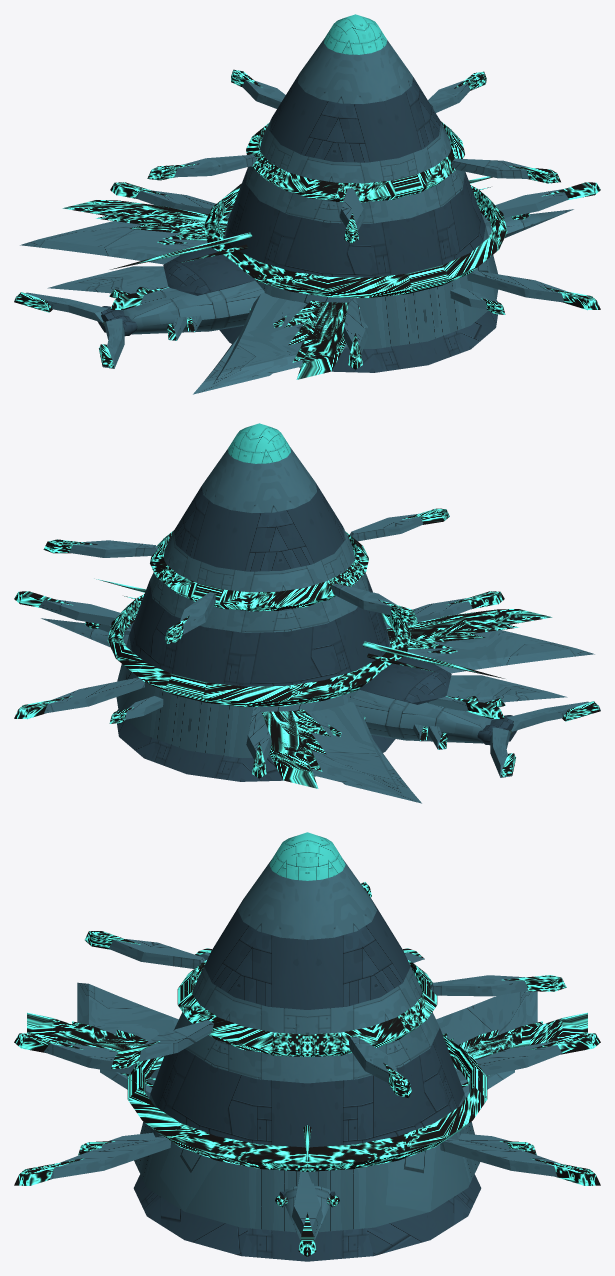
The model's file is tidal_ships.glb.
The picture shows the model from 3 angles, top to bottom: view 1: azimuth 30°, elevation 25°; view 2: azimuth 150°, elevation 25°; view 3: azimuth 270°, elevation 25°; orthographic projection. The views are drawn at different scales.
Visible parts, largest first — view 1: stellar_station, battleship, station, cruiser; view 2: stellar_station, battleship, station, cruiser; view 3: stellar_station, battleship, station, cruiser.
Part boxes in pixels (bbox=[...]): stellar_station: bbox=[110, 14, 600, 372]; battleship: bbox=[14, 176, 573, 394]; station: bbox=[157, 213, 529, 327]; cruiser: bbox=[109, 187, 490, 378]; stellar_station: bbox=[14, 423, 504, 781]; battleship: bbox=[41, 579, 600, 803]; station: bbox=[85, 622, 457, 736]; cruiser: bbox=[124, 596, 505, 787]; stellar_station: bbox=[14, 832, 600, 1261]; battleship: bbox=[27, 948, 587, 1239]; station: bbox=[78, 1033, 536, 1195]; cruiser: bbox=[100, 1069, 514, 1097].
Size of the model in its own units: 6.68 by 3.62 by 5.23.
Materials: 1 (1 with a texture image).
